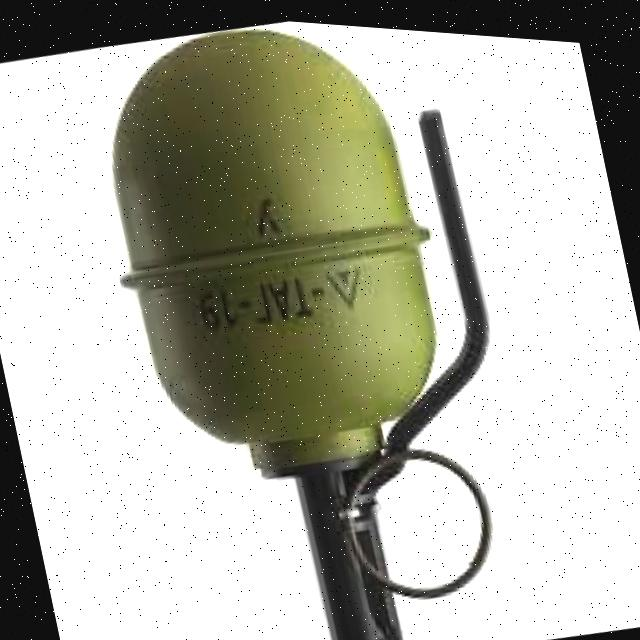grenade: (63, 4, 563, 640)
